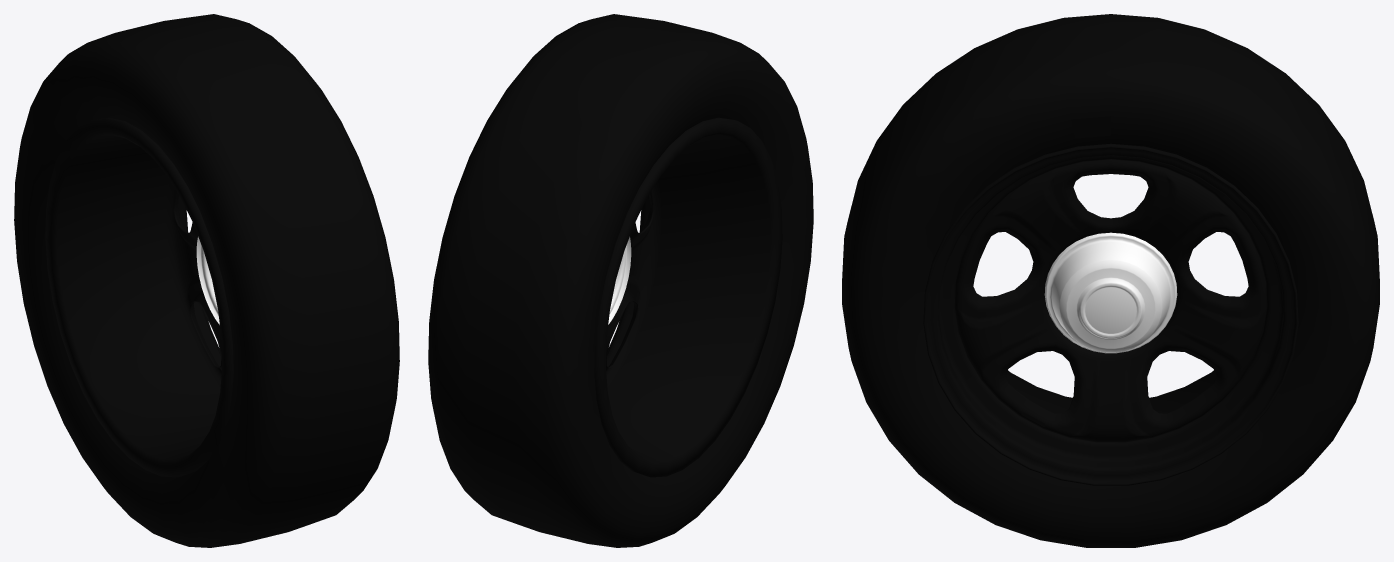
File: PoliceWheels1.fbx
3 renders of one model, left to right at view 1: azimuth 30°, elevation 25°; view 2: azimuth 150°, elevation 25°; view 3: azimuth 270°, elevation 25°, orthographic. The views are drawn at different scales.
Parts seen in each view (by area): view 1: FL; view 2: FL; view 3: FL.
Part boxes in pixels (x1,y1,x2,y2): FL: (14,14,399,547); FL: (428,14,813,547); FL: (842,14,1379,547).
Bounding box in the file's own units: 0.2717 × 0.8305 × 0.8296.
